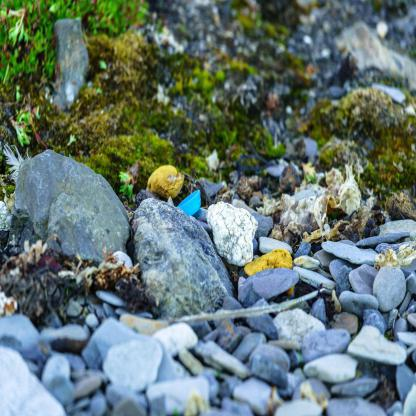plastik: (177, 190, 203, 219)
